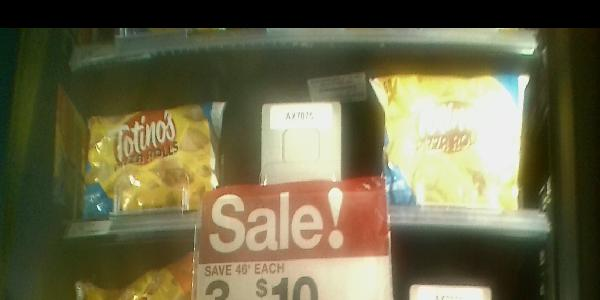icecream: (368, 57, 538, 212), (81, 98, 230, 229)
